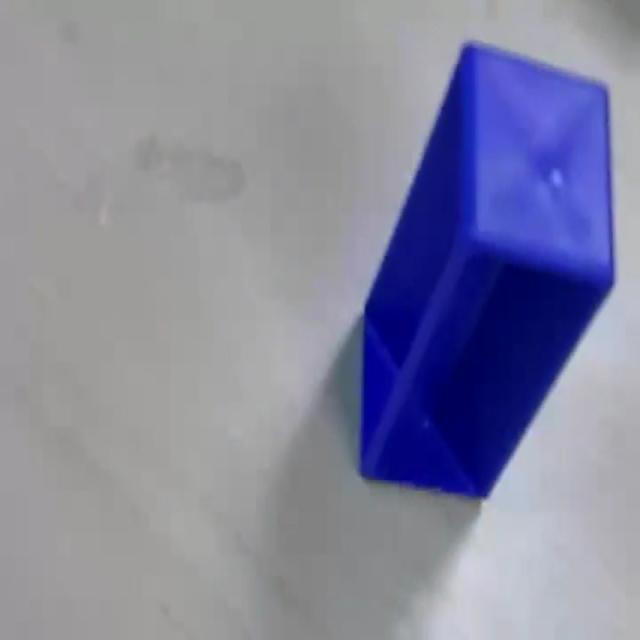blue_block: (357, 37, 618, 500)
